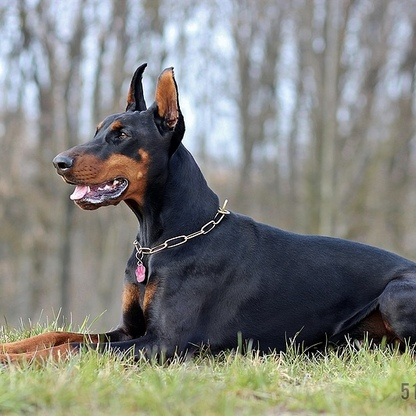doberman: (51, 62, 416, 361)
